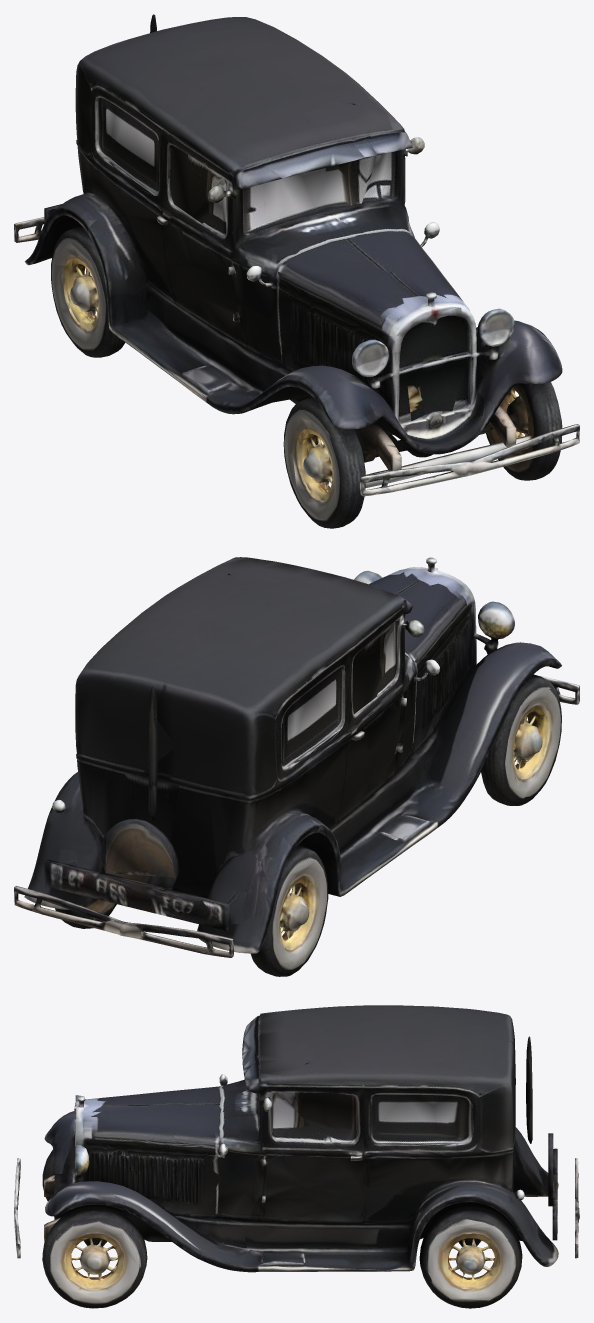
Rendered from mount-ford-model-a.glb.
3 renders of one model, top to bottom at view 1: azimuth 30°, elevation 25°; view 2: azimuth 150°, elevation 25°; view 3: azimuth 270°, elevation 25°, orthographic. The views are drawn at different scales.
Visible parts, largest first — view 1: model; view 2: model; view 3: model.
Part boxes in pixels (box(x1,y1,x2,y2)): model: box(14, 14, 579, 528); model: box(14, 557, 579, 976); model: box(14, 1005, 579, 1308).
Size of the model in its own units: 1.53 by 1.82 by 4.
Materials: 1 (1 with a texture image).
